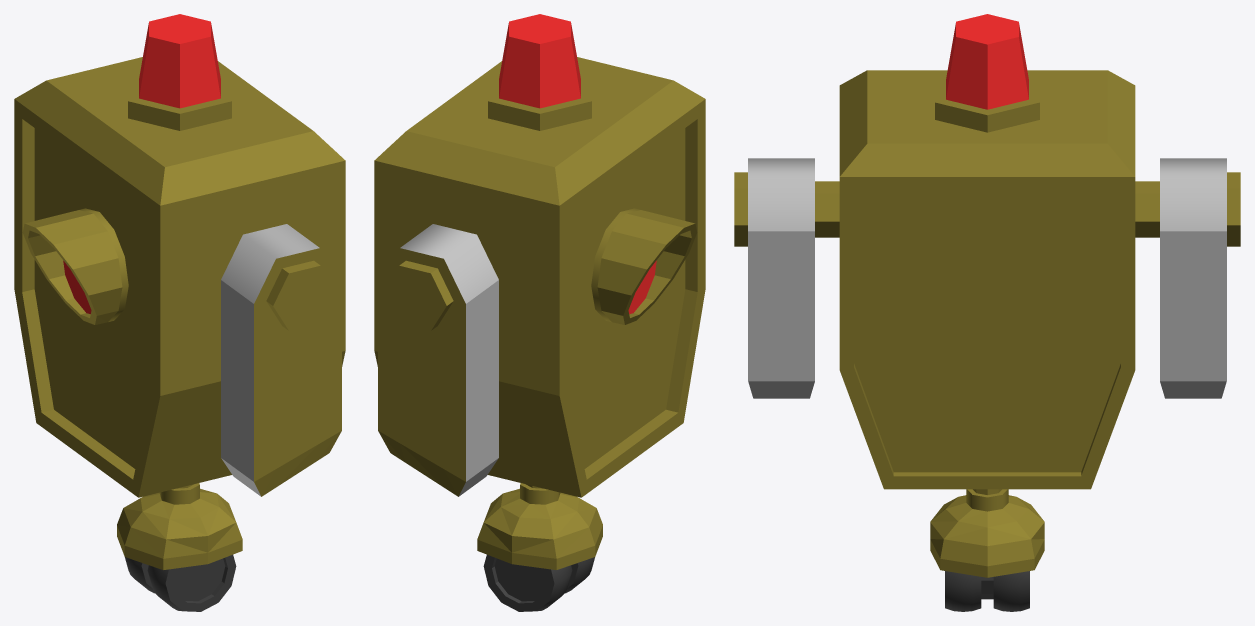
Rendered from Player_Test01.FBX.
The picture shows the model from 3 angles, left to right: view 1: azimuth 30°, elevation 25°; view 2: azimuth 150°, elevation 25°; view 3: azimuth 270°, elevation 25°; orthographic projection.
Parts seen in each view (by area): view 1: Body, Boosters, Light01, Tire; view 2: Body, Boosters, Light01, Tire; view 3: Body, Boosters, Light01, Tire.
Part boxes in pixels (x1=…): Body: x1=14, y1=57, x2=345, y2=569; Boosters: x1=221, y1=224, x2=341, y2=496; Light01: x1=63, y1=14, x2=220, y2=313; Tire: x1=125, y1=554, x2=236, y2=611; Body: x1=374, y1=57, x2=705, y2=569; Boosters: x1=378, y1=224, x2=498, y2=496; Light01: x1=499, y1=14, x2=656, y2=313; Tire: x1=483, y1=554, x2=594, y2=611; Body: x1=839, y1=70, x2=1135, y2=577; Boosters: x1=734, y1=158, x2=1240, y2=398; Light01: x1=946, y1=14, x2=1028, y2=109; Tire: x1=945, y1=571, x2=1029, y2=611.
Size of the model in its own units: 87.57 by 202 by 160.
